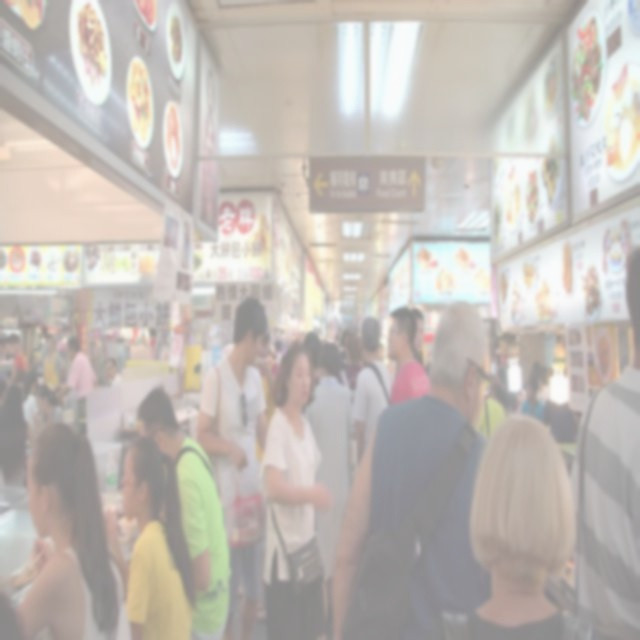pessoa: (331, 298, 495, 638), (426, 413, 622, 639), (568, 242, 640, 638), (13, 418, 134, 638), (194, 293, 270, 639), (134, 381, 233, 639), (253, 333, 334, 639), (102, 432, 198, 639), (0, 306, 129, 430), (303, 340, 354, 620), (489, 338, 569, 418), (354, 314, 394, 470), (386, 306, 431, 406), (0, 381, 35, 487), (255, 324, 278, 464), (398, 302, 436, 378), (0, 577, 36, 639), (300, 328, 324, 416), (265, 320, 304, 368), (201, 70, 219, 164), (321, 320, 348, 378), (377, 331, 397, 378)
